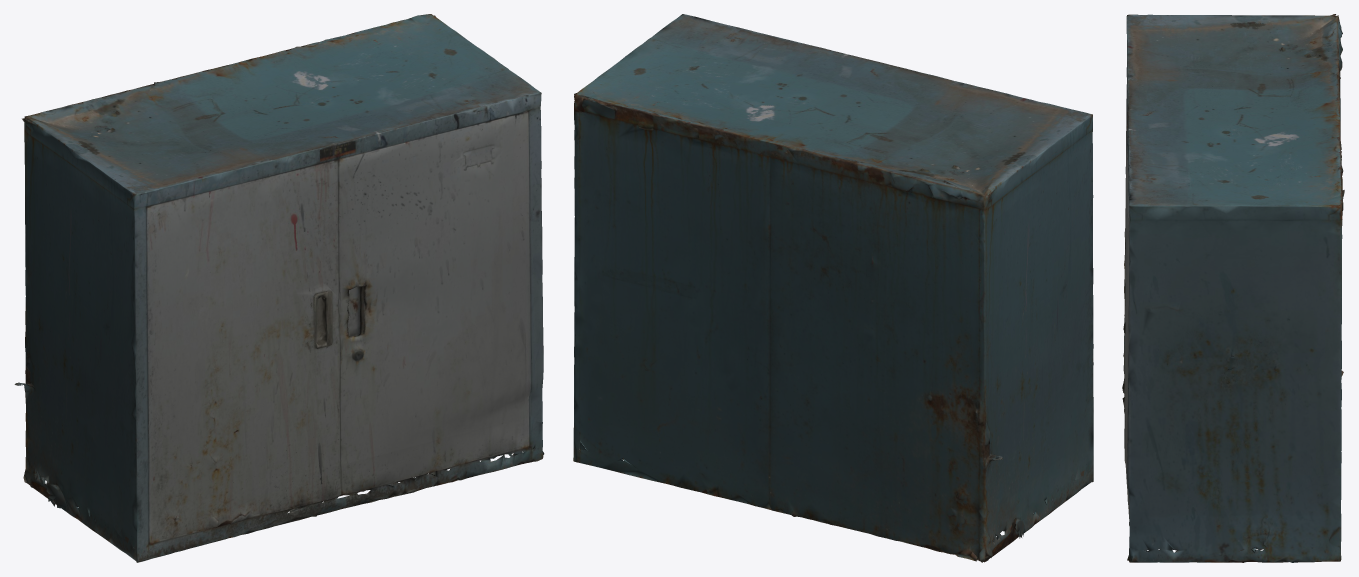
Rendered from PX_Old_Tin_Cabinet_01_LOD1.fbx.
3 renders of one model, left to right at view 1: azimuth 30°, elevation 25°; view 2: azimuth 150°, elevation 25°; view 3: azimuth 270°, elevation 25°, orthographic. The views are drawn at different scales.
Parts seen in each view (by area): view 1: PX_Old_Tin_Cabinet_01_LOD1; view 2: PX_Old_Tin_Cabinet_01_LOD1; view 3: PX_Old_Tin_Cabinet_01_LOD1.
Part boxes in pixels (box(x1,y1,x2,y2)): PX_Old_Tin_Cabinet_01_LOD1: box(14, 14, 544, 562); PX_Old_Tin_Cabinet_01_LOD1: box(573, 14, 1093, 562); PX_Old_Tin_Cabinet_01_LOD1: box(1122, 14, 1344, 562).
Size of the model in its own units: 80.14 by 66.66 by 37.23.
